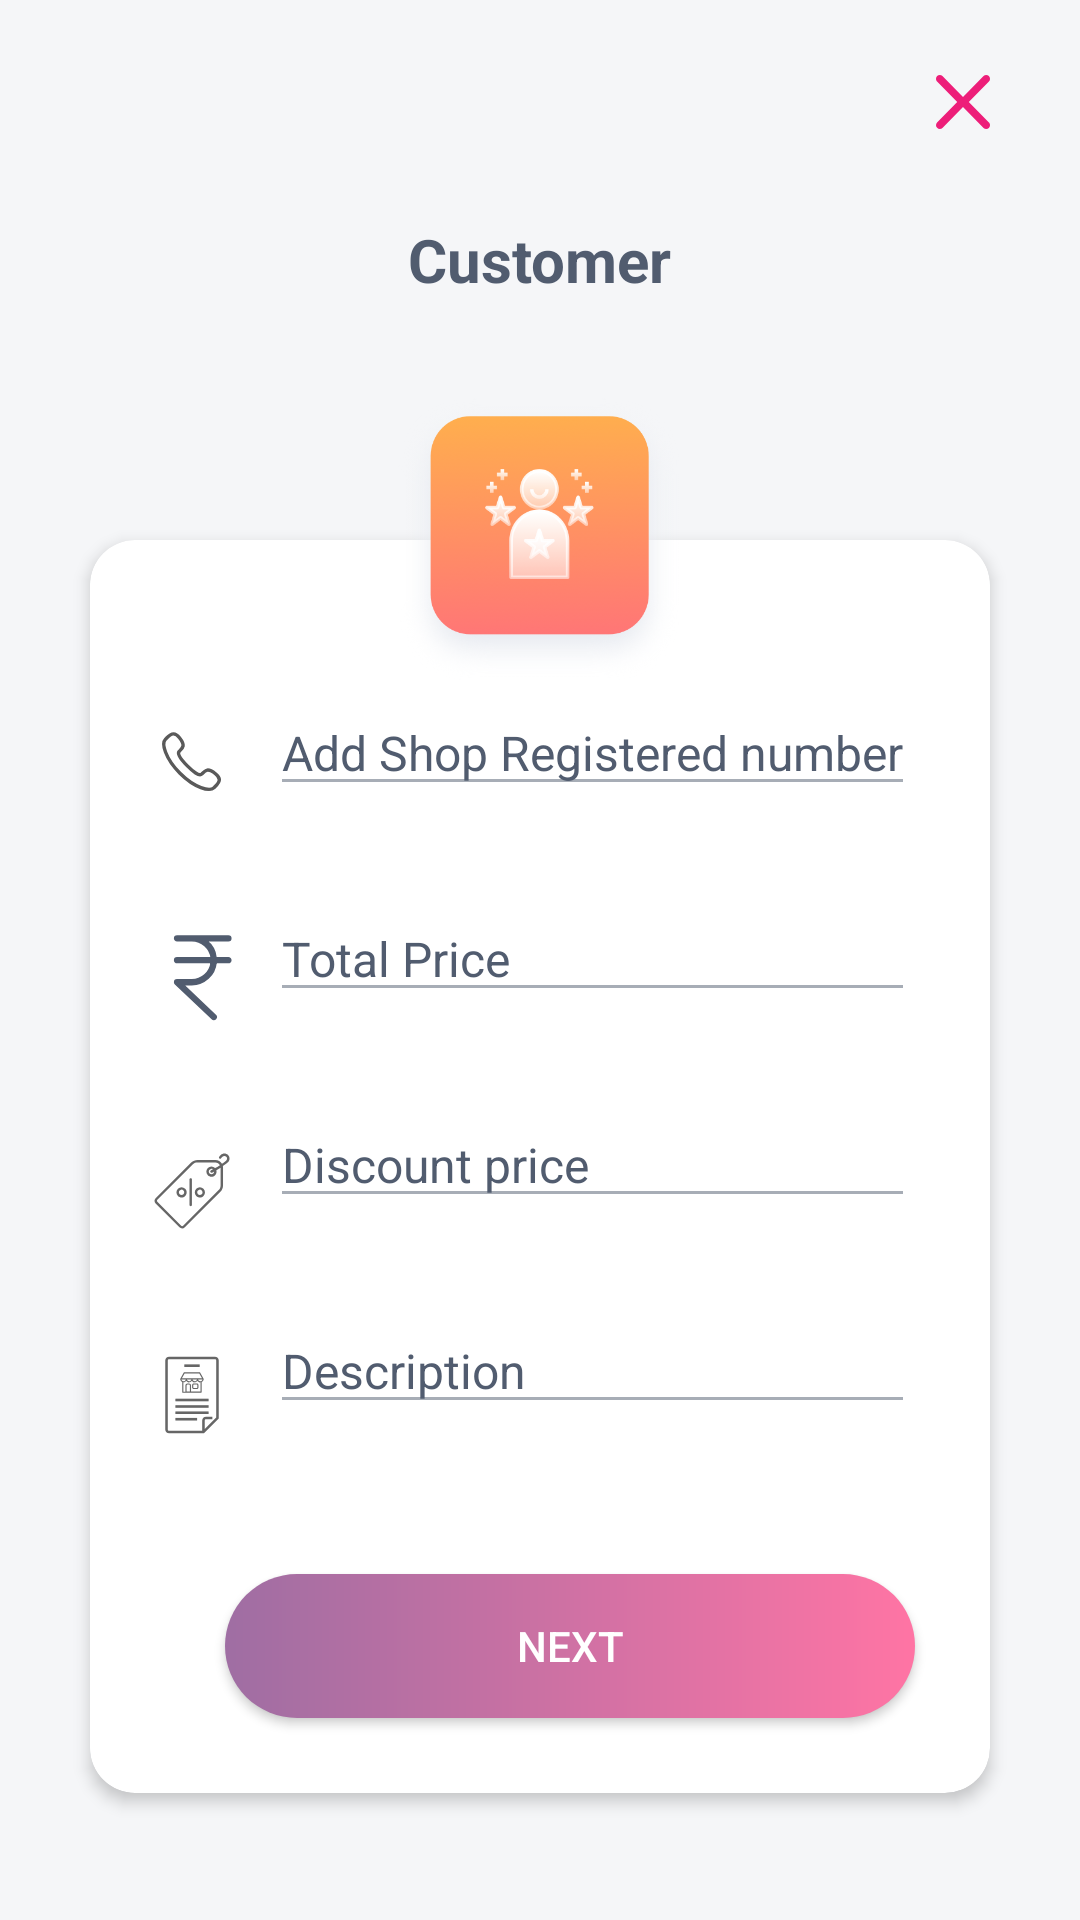

Screen size 1080 × 1920. Icon name, then its center in pixels as point (x, y):
cal: point (191, 761)
close: point (963, 102)
descripation: point (192, 1395)
money: point (203, 978)
